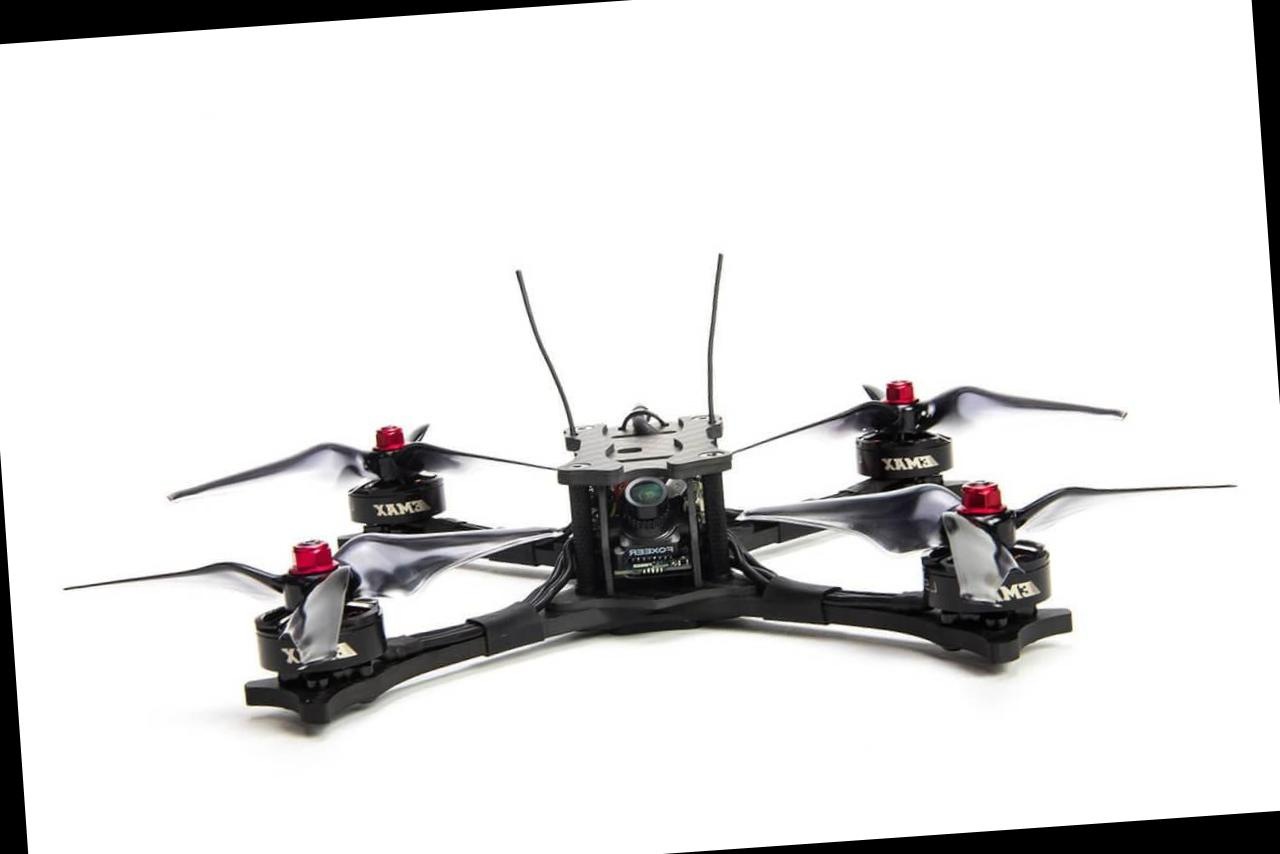drone: (44, 354, 1232, 763)
